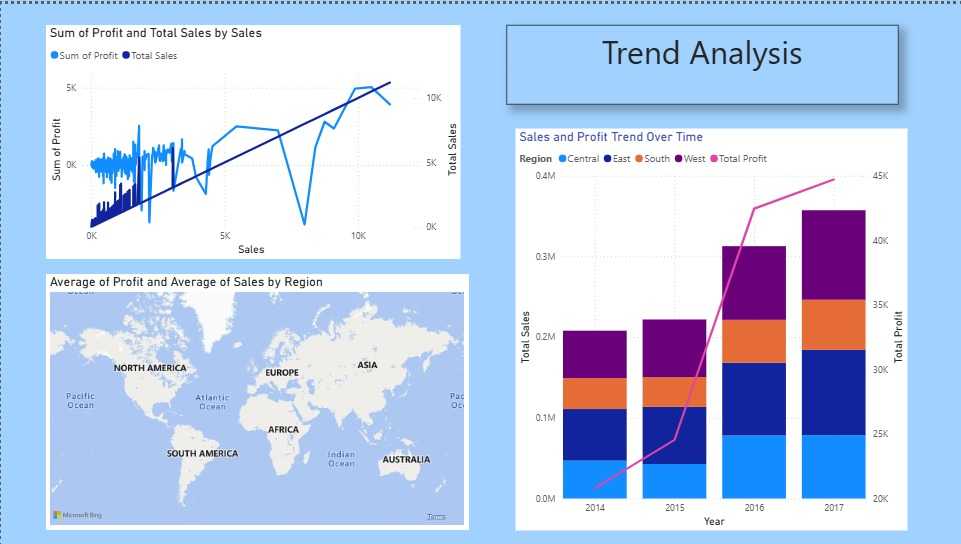

This screenshot's page, from the dashboard's own definition file:
{"tool":"powerbi","page":{"name":"Trend Analysis","canvas":[1280,720],"ordinal":1},"visuals":[{"type":"lineChart","fields":{"Category":["FactSales.Sales"],"Y":["Sum(FactSales.Profit)"],"Y2":["FactSales.Total Sales"]},"box":[60.6,28.8,552.7,311.9],"z":0},{"type":"lineStackedColumnComboChart","title":"Sales and Profit Trend Over Time","fields":{"Y":["FactSales.Total Sales"],"Y2":["FactSales.Total Profit"],"Series":["FactSales.Region"],"Category":["DimDate.Year"]},"box":[685.9,165,522.4,536],"z":1000},{"type":"map","fields":{"Category":["FactSales.Region"],"X":["Avg(FactSales.Sales)"],"Y":["Avg(FactSales.Profit)"]},"box":[60.6,360.4,563.3,340.7],"z":2000},{"type":"textbox","box":[673.8,28.8,522.4,106],"z":3000}]}

Visuals, with their boxes in screenshot pixels (x1, y1, x2, y2), scaled from the page's 1280x720 canvas onto the 961x544 screenshot:
lineChart - FactSales.Sales x Sum(FactSales.Profit): 45 22 460 257
"Sales and Profit Trend Over Time" lineStackedColumnComboChart: 515 125 907 530
map - FactSales.Region x Avg(FactSales.Sales): 45 272 468 530
textbox: 506 22 898 102
